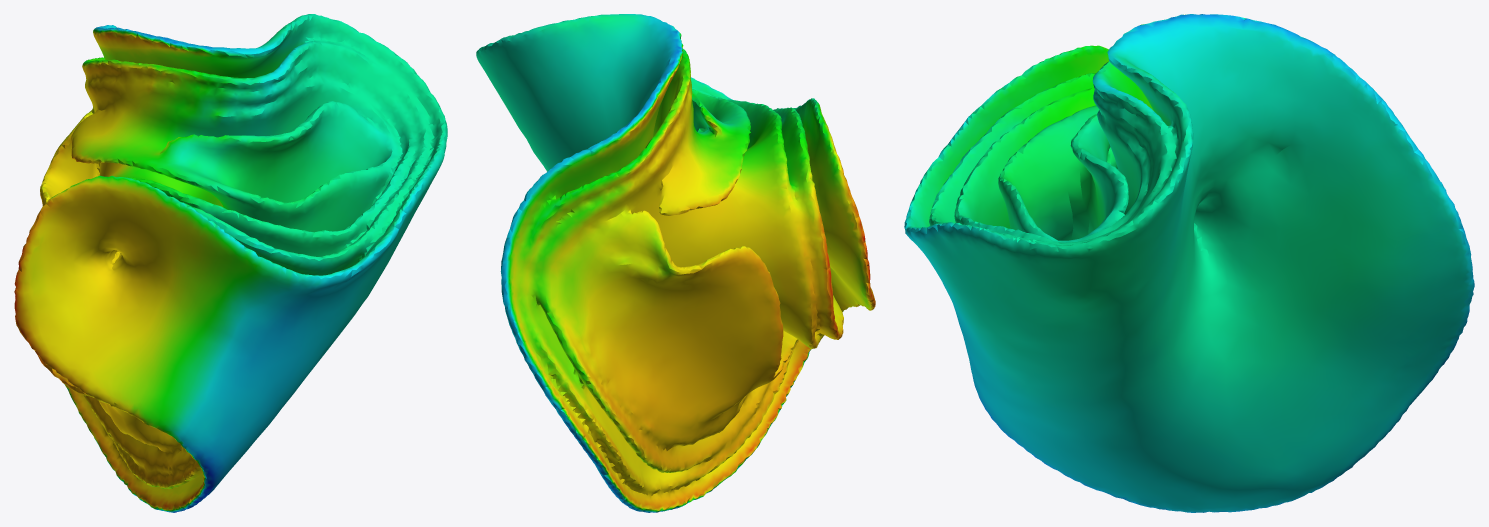
File: CFD_geometry_shells_result.gltf
3 views of the same model, side by side, from view 1: azimuth 30°, elevation 25°; view 2: azimuth 150°, elevation 25°; view 3: azimuth 270°, elevation 25° (orthographic). The views are drawn at different scales.
Parts seen in each view (by area): view 1: Volume_0; view 2: Volume_0; view 3: Volume_0.
Part boxes in pixels (box(x1,y1,x2,y2)): Volume_0: box(14, 14, 447, 512); Volume_0: box(476, 14, 875, 512); Volume_0: box(904, 14, 1474, 512).
Size of the model in its own units: 187 by 199 by 201.
Materials: 1 (1 with a texture image).
